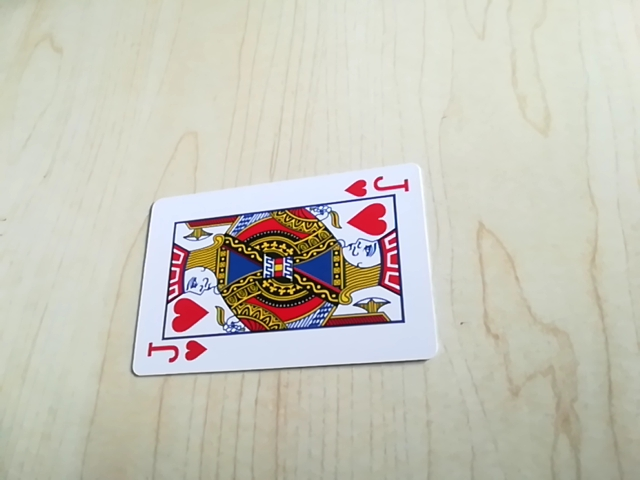hx j: (143, 338, 210, 371), (343, 171, 412, 200)
